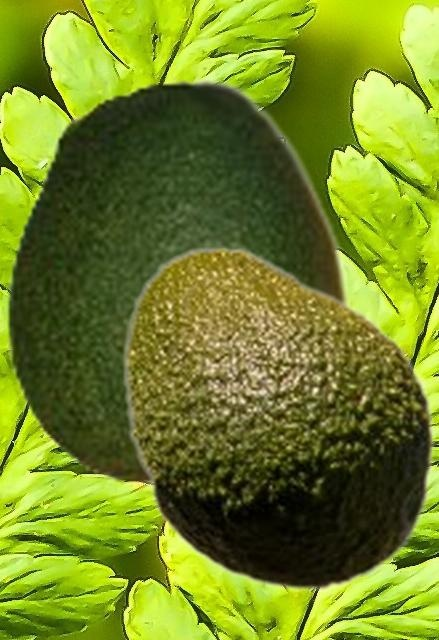avocado: (5, 77, 349, 483), (121, 245, 435, 592)
